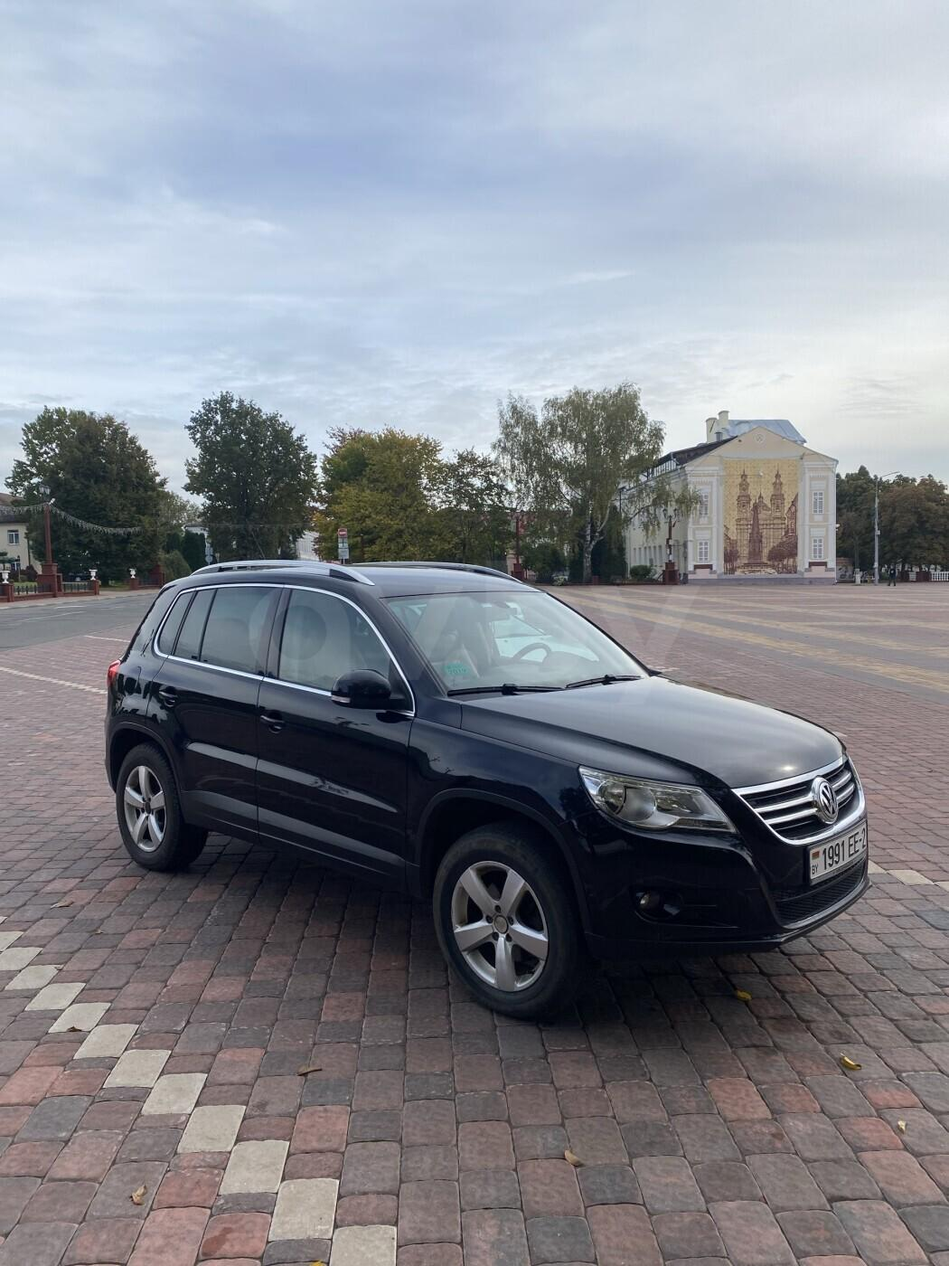Tiguan_2007-2011: (108, 557, 873, 1024)
